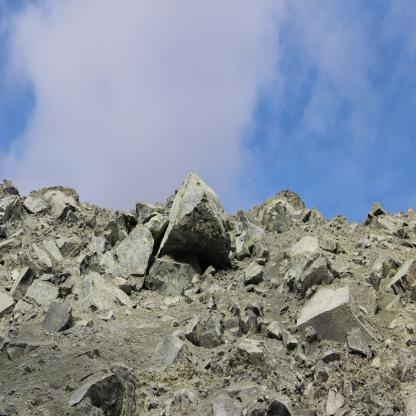stone: (41, 298, 73, 334), (184, 315, 204, 344), (347, 330, 371, 354), (244, 261, 264, 285), (265, 321, 280, 338), (322, 349, 340, 363), (343, 380, 353, 398), (252, 302, 264, 316), (379, 407, 394, 416), (89, 262, 101, 273), (204, 265, 216, 276), (286, 338, 298, 349), (249, 408, 264, 416), (361, 391, 371, 403), (207, 296, 216, 309), (361, 238, 371, 248), (191, 273, 200, 284), (305, 288, 313, 300), (257, 316, 263, 329), (194, 284, 201, 295), (41, 274, 53, 280), (244, 301, 252, 310), (256, 258, 266, 265), (229, 250, 235, 261), (4, 284, 11, 291), (223, 377, 230, 384), (265, 395, 270, 404), (311, 285, 317, 292), (258, 396, 264, 402), (200, 392, 207, 397), (231, 337, 236, 343), (60, 276, 65, 282), (9, 317, 13, 323), (210, 360, 213, 366), (225, 383, 229, 386)
